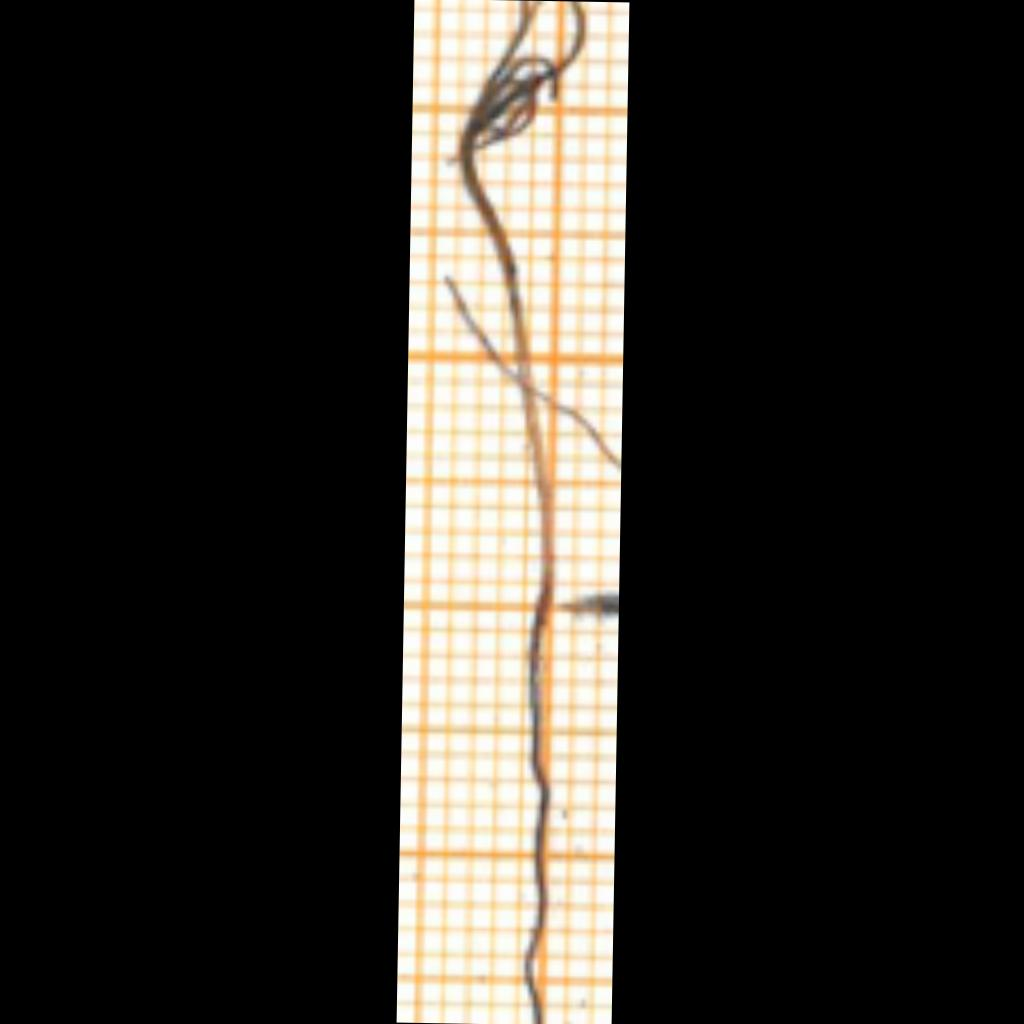flowerPinus: (461, 1, 585, 162)
rootPinus: (525, 608, 550, 1023)
stemPinus: (464, 154, 555, 611)
